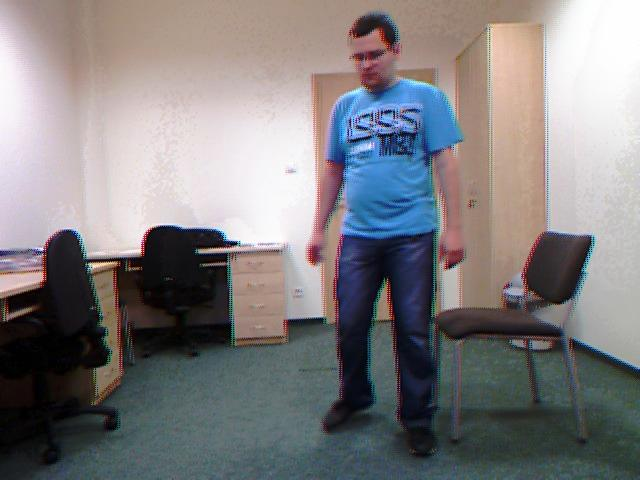walking: (297, 0, 472, 460)
